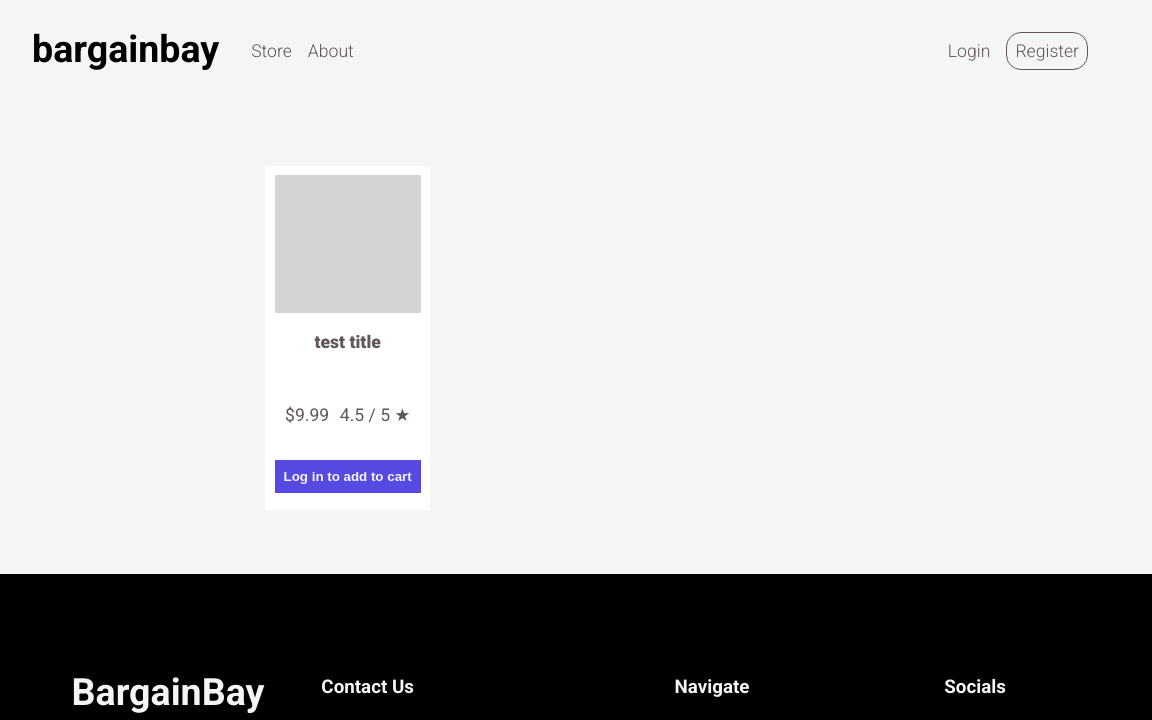
Scenario: Register › shows that inputs are invalid
Click the text "Register" at (1047, 51), box [1015,41,1079,61]
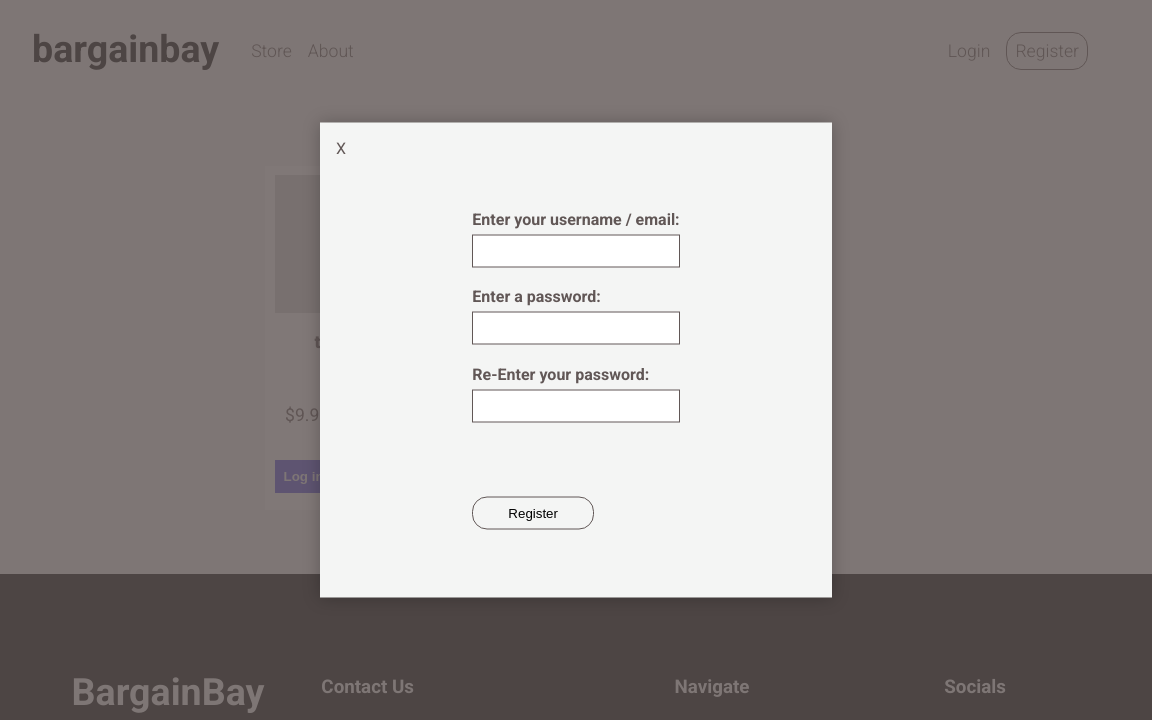
Type "123" into the field named "username" at (576, 251), box [472,234,679,267]
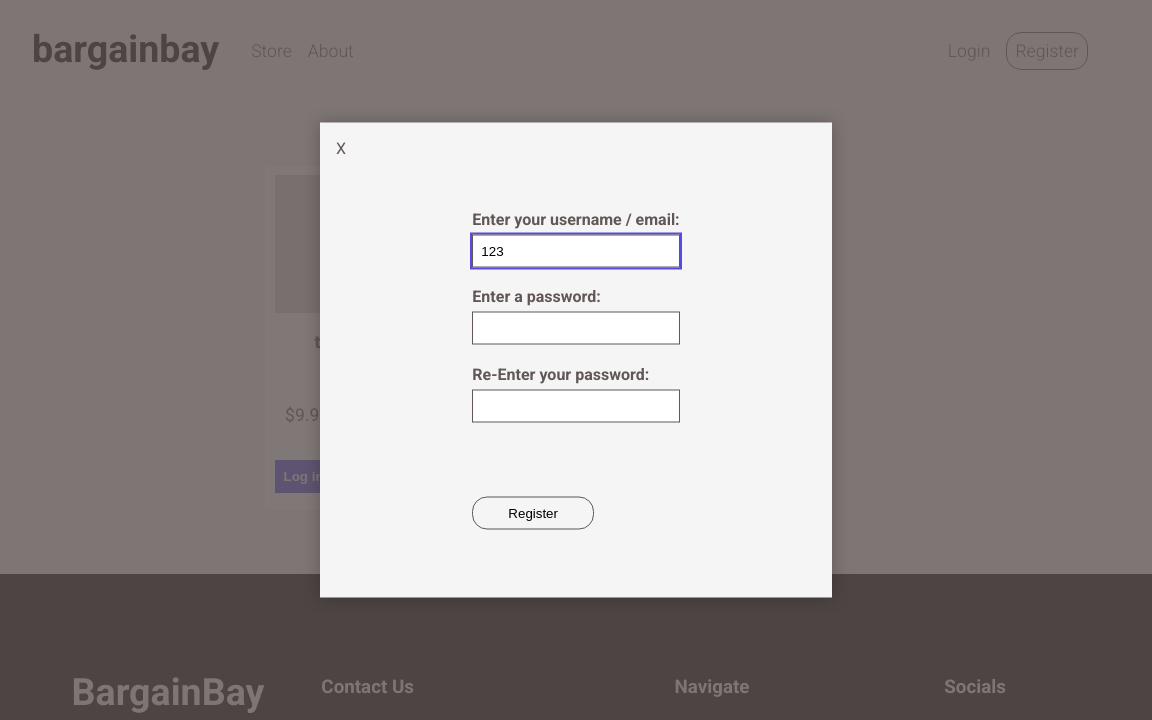
Type "test" into the password field named "password" below "Enter a password:" at (576, 329), box [472,312,679,345]
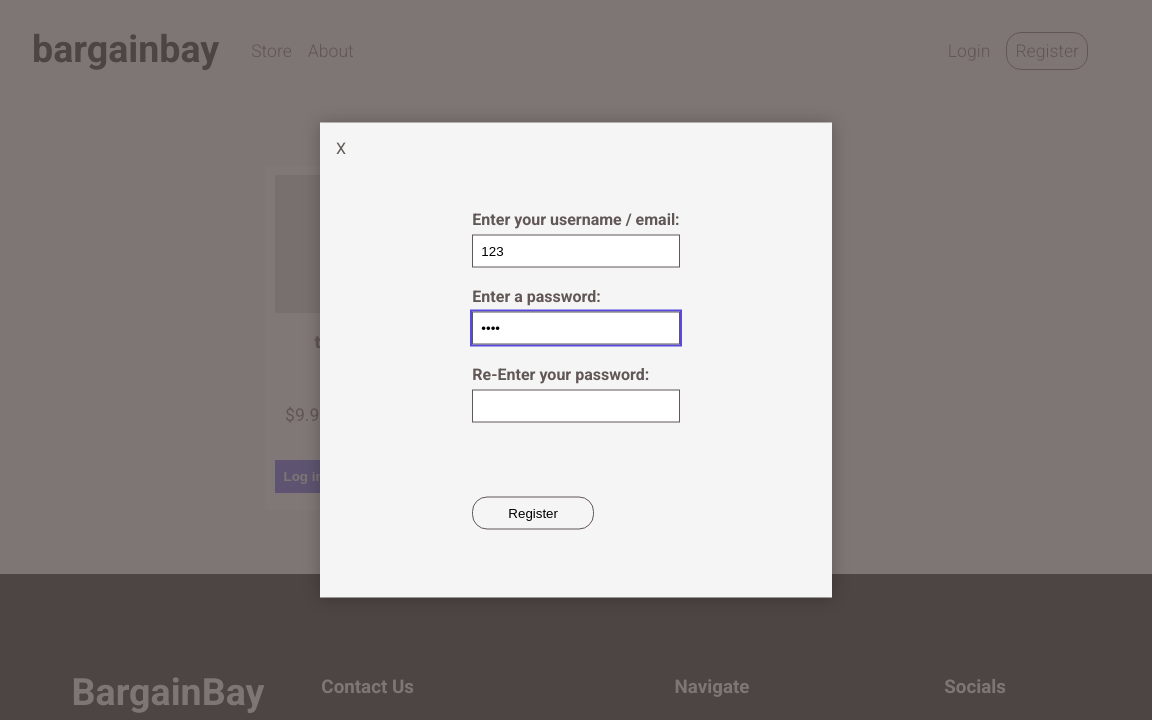
Type "test" into the password field named "password2" below "Re-Enter your password:" at (576, 406), box [472,389,679,422]
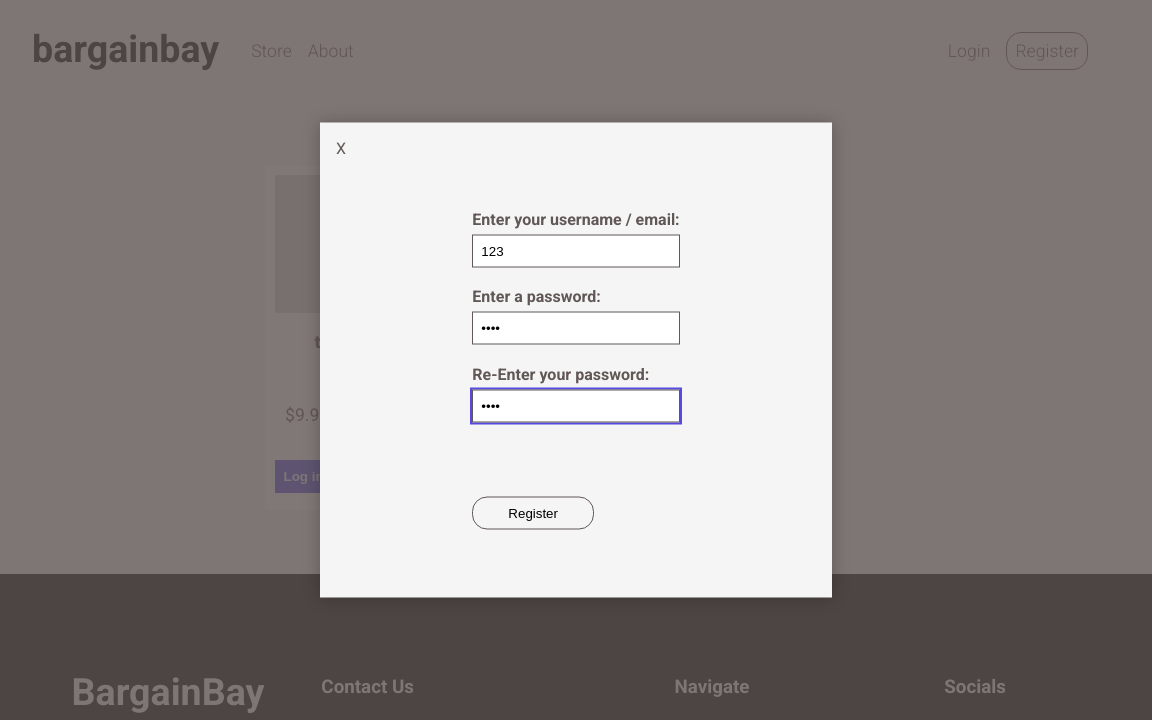
Click the button with class "button__1" showing "Register" at (533, 514), box [472,497,594,530]
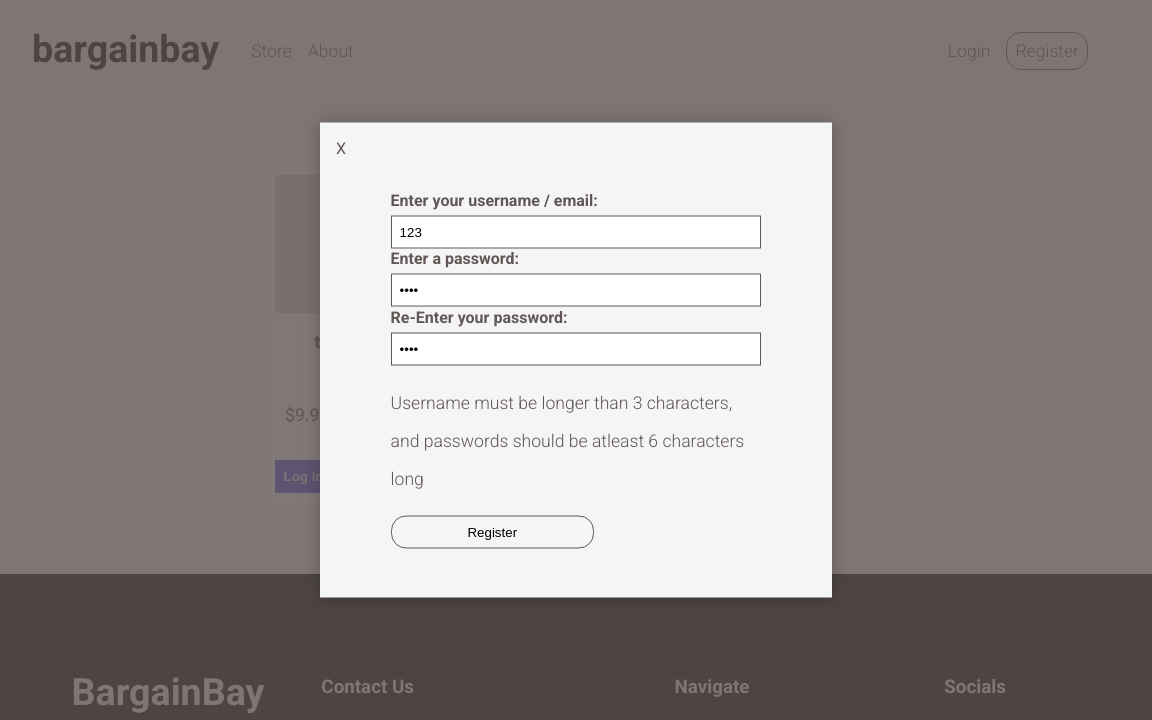
Now the text "Username must be longer than 3 characters, and passwords should be atleast 6 characters long" is shown, box [391,393,745,489]
